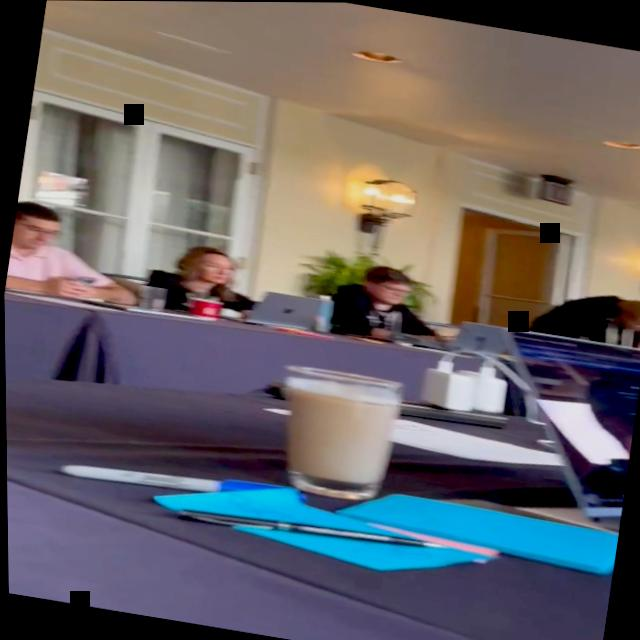NO-Mask: (10, 214, 57, 253), (200, 252, 236, 286), (379, 279, 408, 305), (629, 315, 640, 333)
